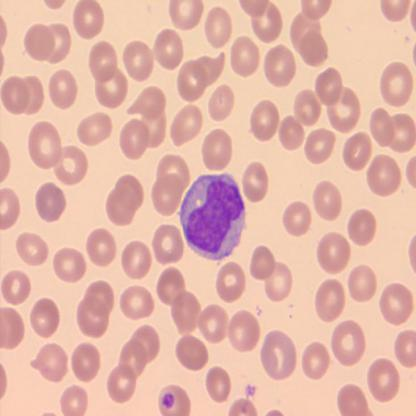Monocyte: (176, 170, 250, 265)
